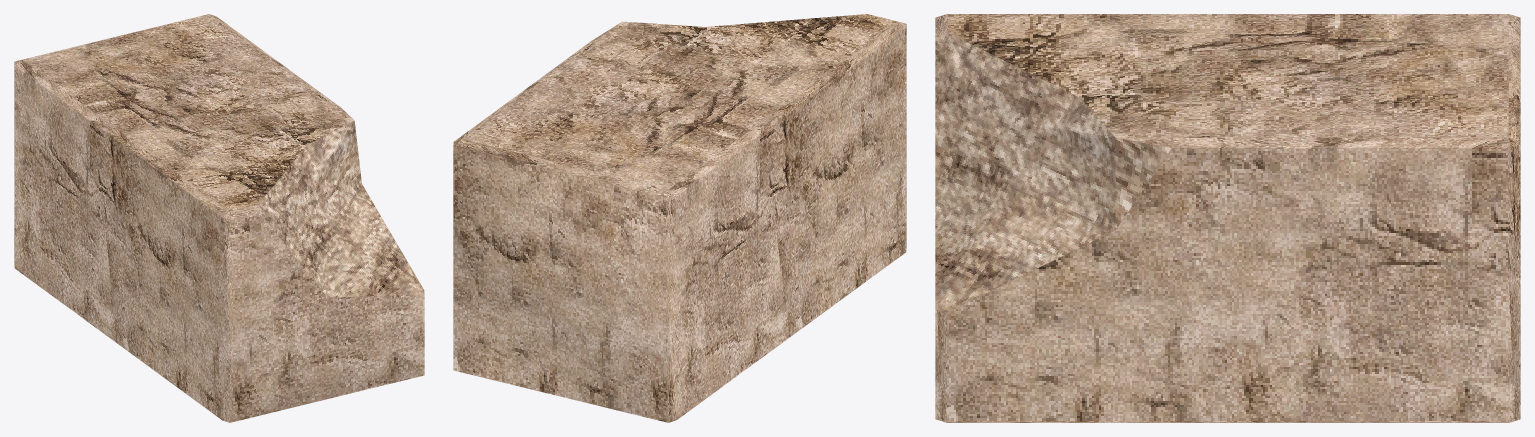
Rendered from stage-dese-p7-12.glb.
The picture shows the model from 3 angles, left to right: view 1: azimuth 30°, elevation 25°; view 2: azimuth 150°, elevation 25°; view 3: azimuth 270°, elevation 25°; orthographic projection. The views are drawn at different scales.
Bounding box in the file's own units: 1.69 × 1.69 × 3.13.
Materials: 2 (2 with a texture image).
